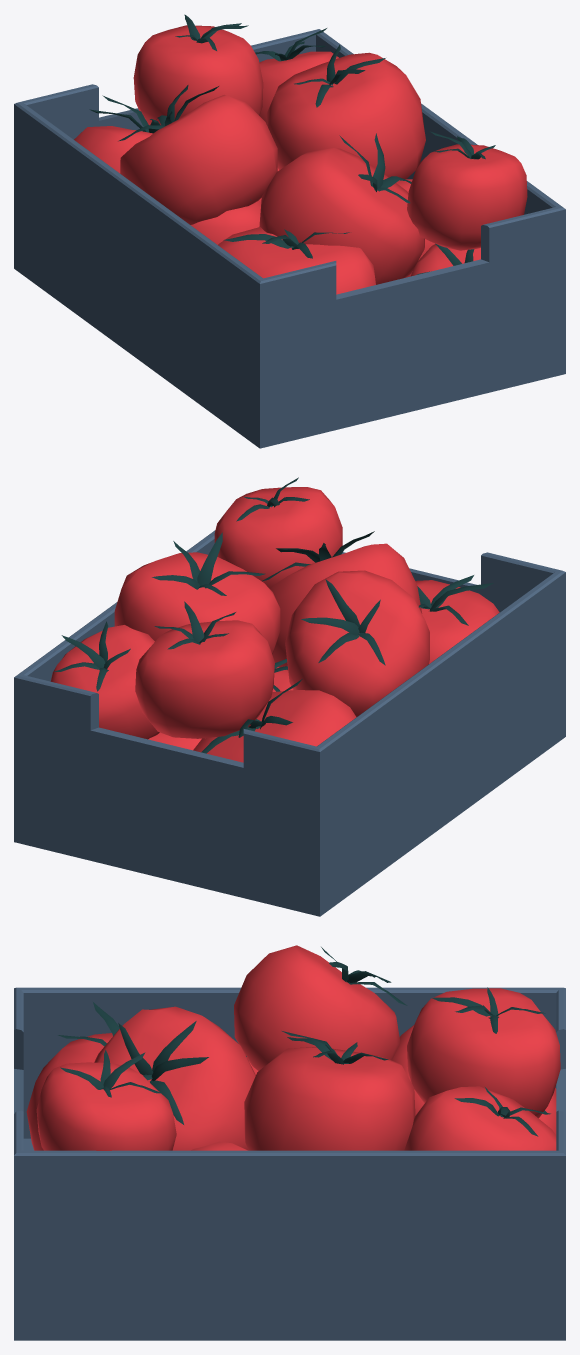
The model's file is CaseTomato.fbx.
The picture shows the model from 3 angles, top to bottom: view 1: azimuth 30°, elevation 25°; view 2: azimuth 150°, elevation 25°; view 3: azimuth 270°, elevation 25°; orthographic projection. The views are drawn at different scales.
Visible parts, largest first — view 1: Cube.002, Plane; view 2: Cube.002, Plane; view 3: Cube.002, Plane.
Boxes of the visible parts, <box> form: Cube.002: <box>14,29,565,448</box>; Plane: <box>74,14,527,294</box>; Cube.002: <box>14,530,565,916</box>; Plane: <box>50,477,499,762</box>; Cube.002: <box>14,987,565,1340</box>; Plane: <box>26,945,560,1150</box>.
Size of the model in its own units: 1345 by 994 by 1871.
